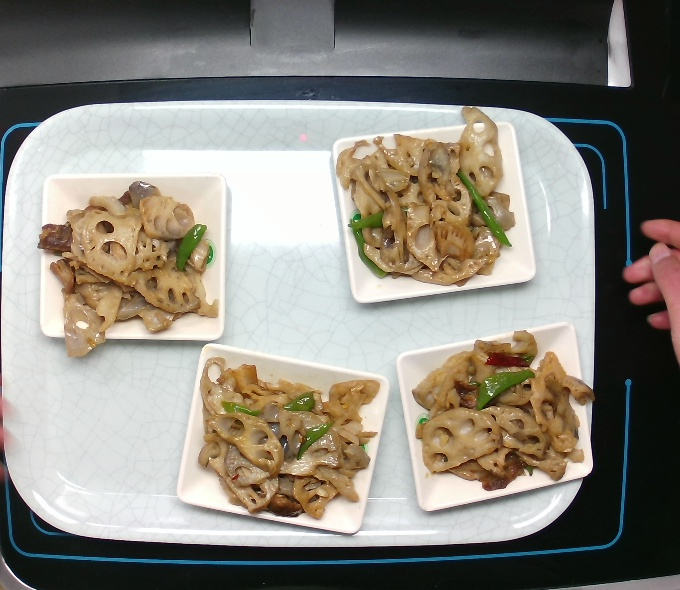wcq-OuPianChaoRou: (330, 99, 525, 291), (30, 175, 224, 364), (192, 352, 386, 526), (406, 322, 599, 496)
